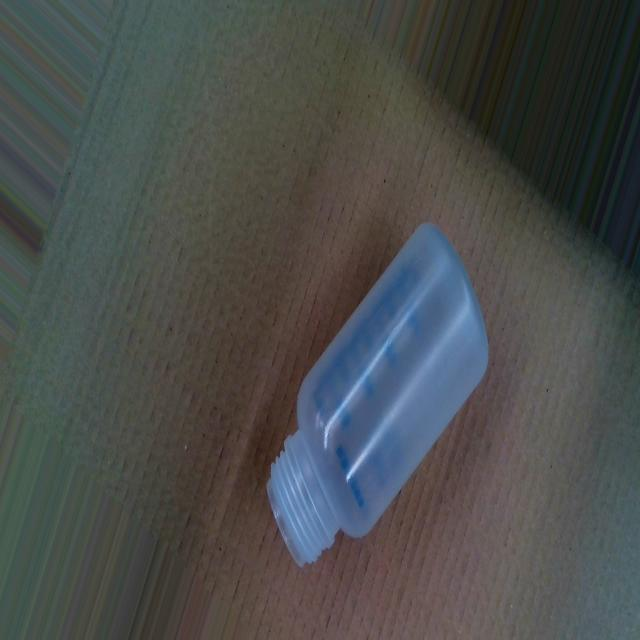bottle: (264, 216, 490, 561)
